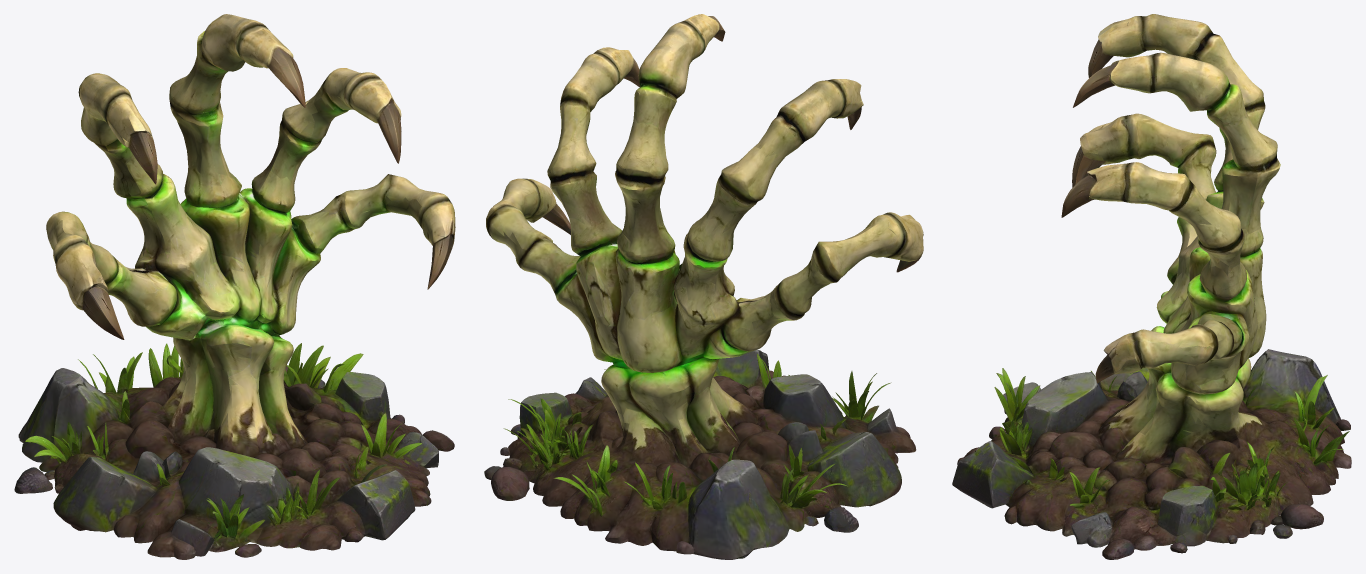
The model's file is hand.glb.
3 views of the same model, side by side, from view 1: azimuth 30°, elevation 25°; view 2: azimuth 150°, elevation 25°; view 3: azimuth 270°, elevation 25° (orthographic). The views are drawn at different scales.
Size of the model in its own units: 1.77 by 1.9 by 1.61.
1 material, 1 textured.
